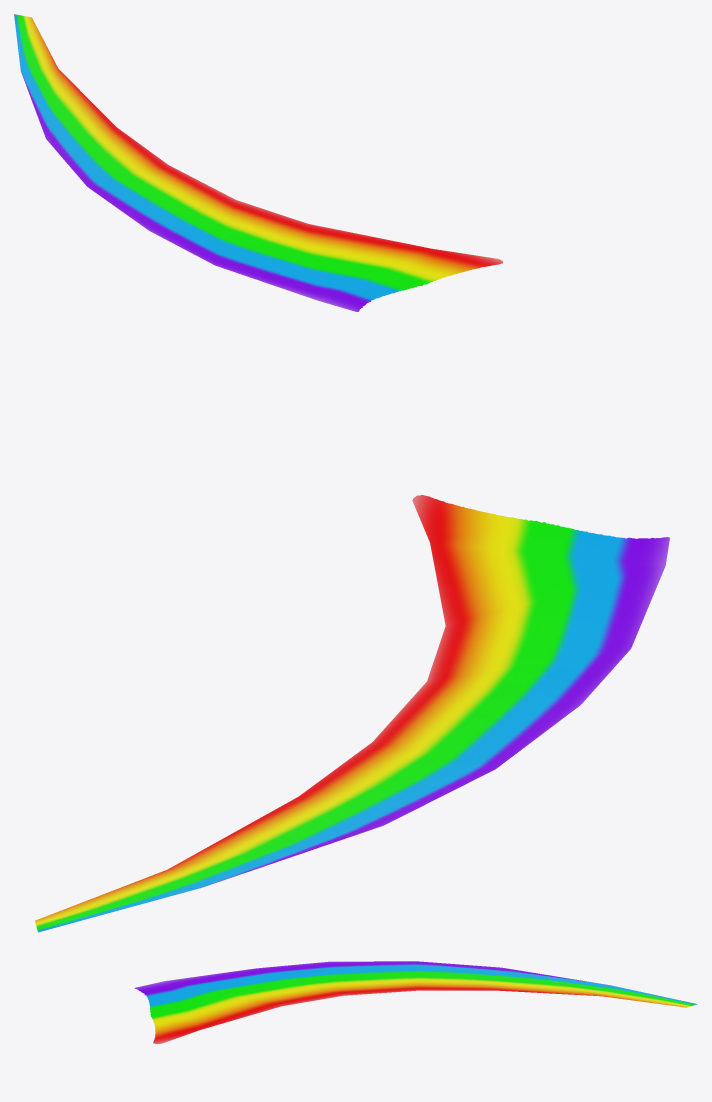
File: rainbow.fbx
The picture shows the model from 3 angles, top to bottom: view 1: azimuth 30°, elevation 25°; view 2: azimuth 150°, elevation 25°; view 3: azimuth 270°, elevation 25°; orthographic projection. The views are drawn at different scales.
Visible parts, largest first — view 1: pPlane2; view 2: pPlane2; view 3: pPlane2.
Boxes of the visible parts, bbox=[...] form: pPlane2: bbox=[14, 14, 502, 311]; pPlane2: bbox=[35, 495, 669, 932]; pPlane2: bbox=[134, 961, 697, 1043].
Bounding box in the file's own units: 126 × 0.5465 × 288.
Materials: 1 (1 with a texture image).
